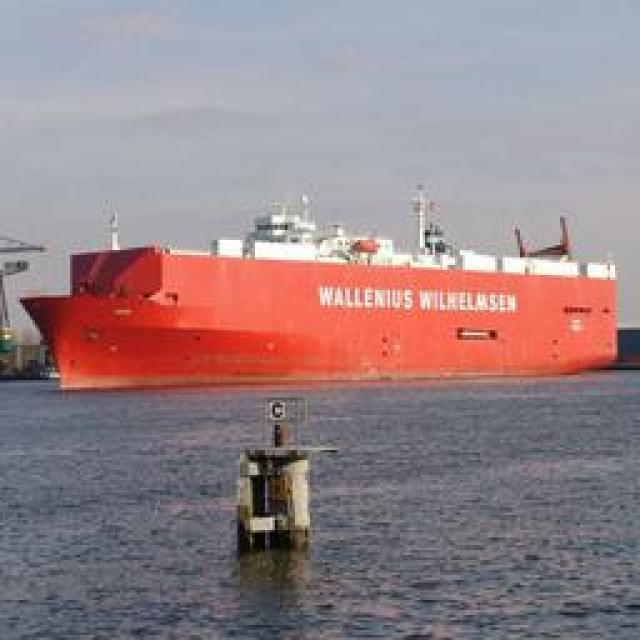ship2: (13, 189, 618, 399)
